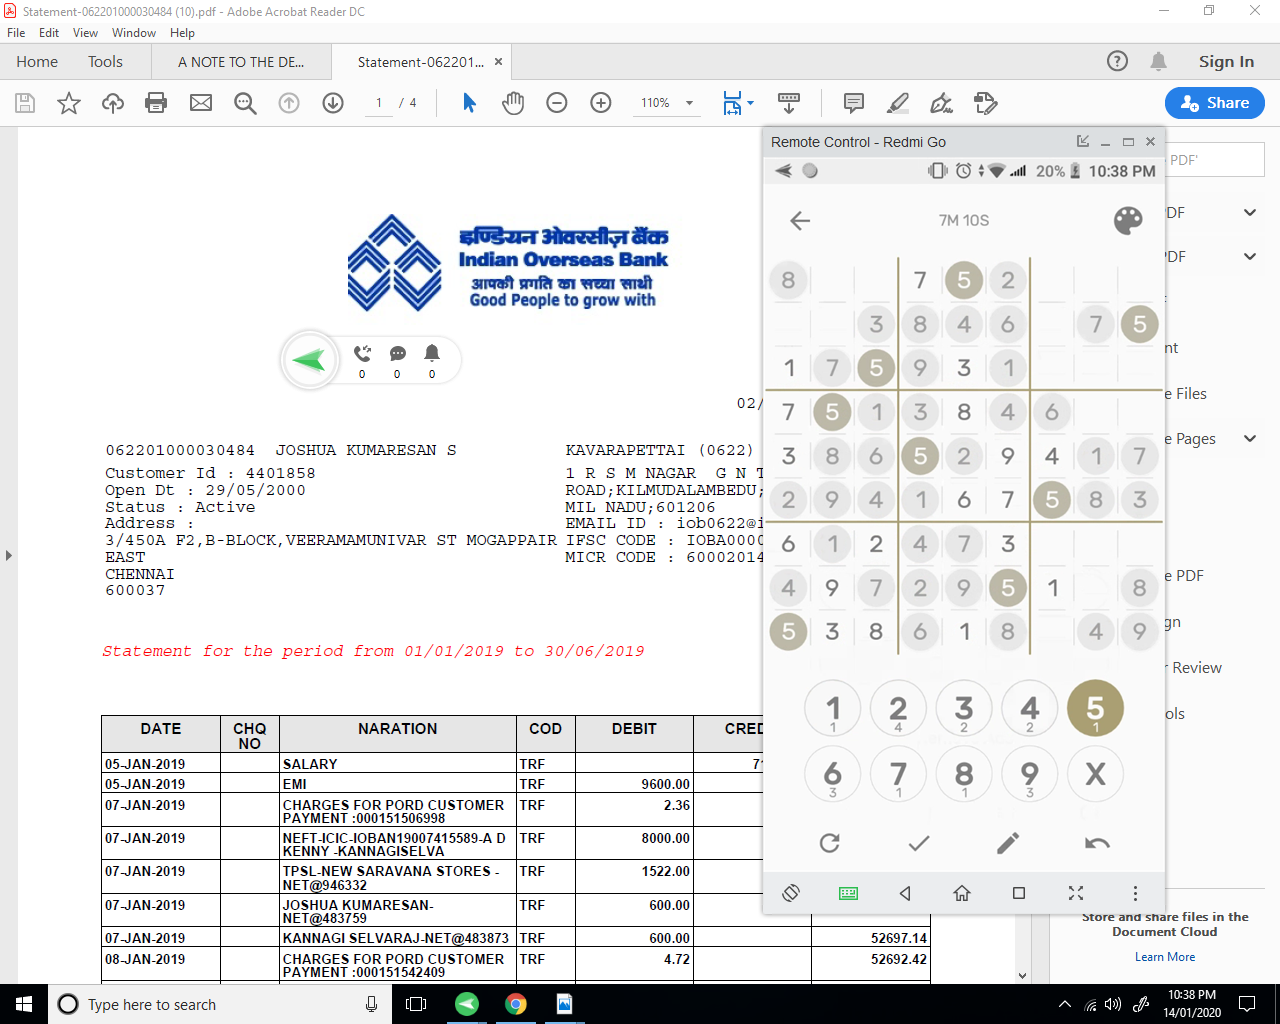4N: (938, 300, 987, 347), (766, 563, 811, 609), (897, 523, 944, 567), (852, 476, 897, 521)
5A: (1066, 671, 1130, 744), (810, 389, 858, 435), (899, 434, 947, 479), (765, 607, 810, 654), (1116, 306, 1163, 349), (984, 563, 1028, 608), (1033, 476, 1073, 522), (940, 260, 987, 299), (855, 346, 897, 388)
6N: (1026, 392, 1079, 436), (898, 610, 942, 652), (857, 436, 898, 475)
7N: (852, 566, 899, 610), (1120, 435, 1165, 479), (946, 522, 985, 566)
8N: (1117, 564, 1163, 607), (897, 302, 944, 344), (944, 390, 984, 429)
X: (1062, 747, 1133, 809)
box: (764, 156, 1162, 876)
